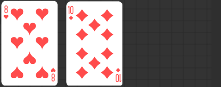10D: (114, 66, 121, 83)
8H: (49, 66, 56, 82)
